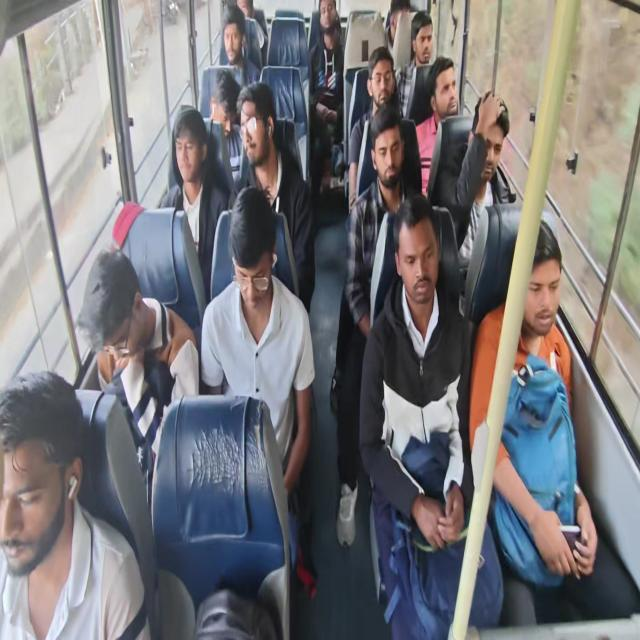person: (469, 218, 638, 624), (358, 193, 504, 638), (330, 103, 422, 549), (0, 369, 151, 638), (200, 185, 315, 499), (76, 247, 199, 504), (232, 80, 315, 314), (160, 105, 232, 304), (454, 90, 516, 314), (347, 45, 401, 212), (307, 0, 344, 192), (415, 56, 459, 198), (395, 11, 434, 118), (209, 70, 242, 181), (219, 4, 261, 88), (236, 0, 268, 68), (385, 0, 410, 51)
